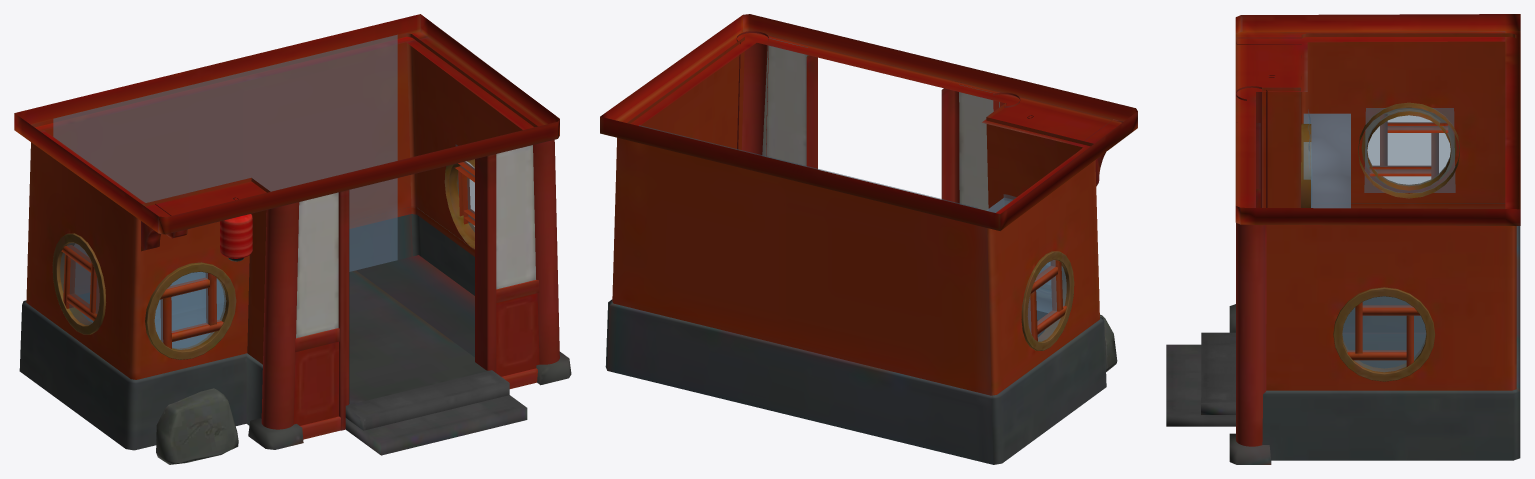
Rendered from wall-nc-oriental.glb.
The picture shows the model from 3 angles, left to right: view 1: azimuth 30°, elevation 25°; view 2: azimuth 150°, elevation 25°; view 3: azimuth 270°, elevation 25°; orthographic projection.
Size of the model in its own units: 36.12 by 21.51 by 27.25.
7 materials, 3 textured.
